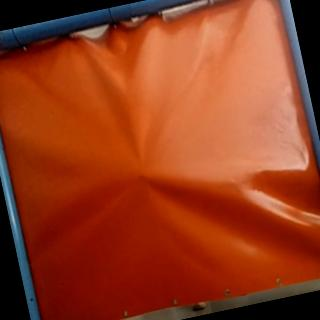Hit-hRxx: (134, 168, 149, 181)
